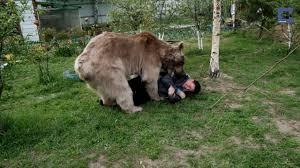bear: (74, 28, 185, 119)
